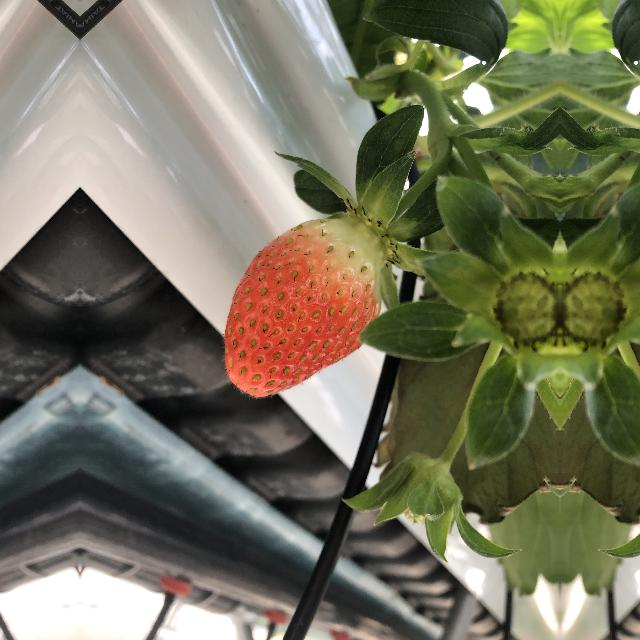Health_100: (214, 200, 393, 402)
